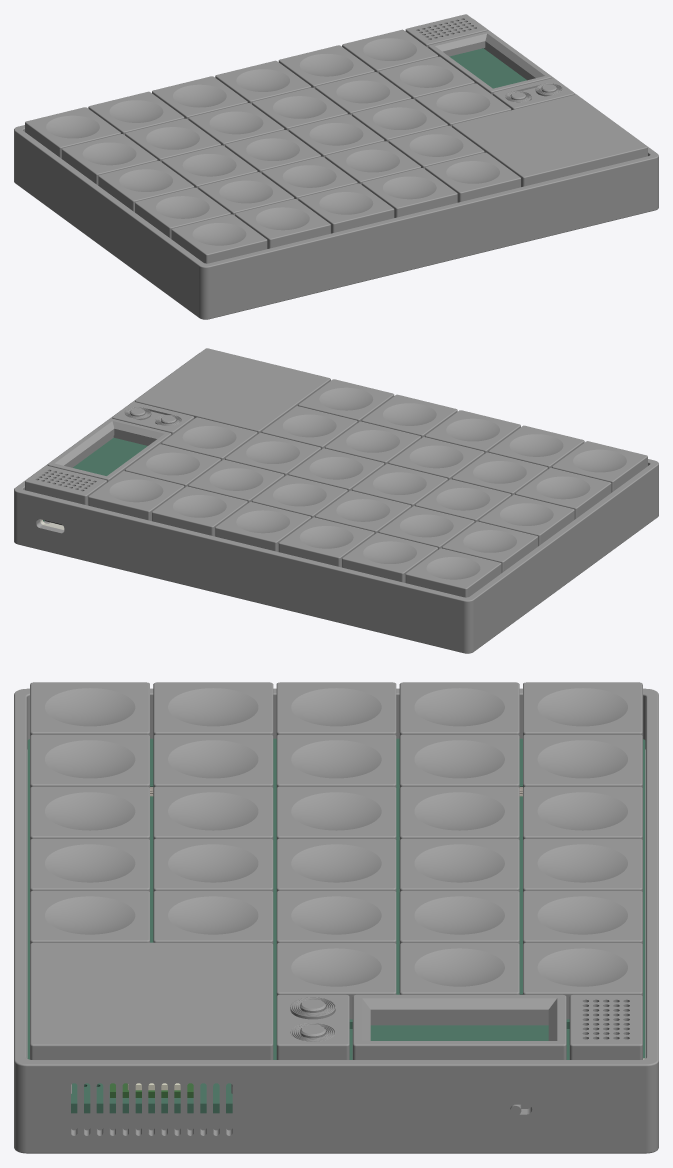
Rendered from OrthusSimple.gltf.
3 views of the same model, one above another, from view 1: azimuth 30°, elevation 25°; view 2: azimuth 150°, elevation 25°; view 3: azimuth 270°, elevation 25° (orthographic). The views are drawn at different scales.
Parts seen in each view (by area): view 1: COMPOUND, OrthusTrackpad1 v29, OrthusKeycap v024, OrthusKeycap v028, OrthusKeycap v031, OrthusKeycap v015, OrthusKeycap v014, COMPOUND002, OrthusKeycap v025, OrthusKeycap v6, OrthusKeycap v009, OrthusKeycap v030 (+22 smaller); view 2: COMPOUND, OrthusTrackpad1 v29, OrthusKeycap v6, OrthusKeycap v033, OrthusKeycap v032, OrthusKeycap v012, OrthusKeycap v007, OrthusKeycap v026, COMPOUND002, OrthusKeycap v009, OrthusKeycap v025, OrthusKeycap v030 (+22 smaller); view 3: COMPOUND, OrthusTrackpad1 v29, COMPOUND002, _autosave-test_PCB, OrthusKeycap v029, OrthusKeycap v007, OrthusKeycap v010, OrthusKeycap v019, OrthusKeycap v008, OrthusKeycap v009, OrthusKeycap v017, OrthusKeycap v022 (+24 smaller).
Boxes of the visible parts, x1,y1,x2,y2 form: COMPOUND: (14, 19, 658, 319); OrthusTrackpad1 v29: (452, 94, 647, 186); OrthusKeycap v024: (171, 214, 267, 263); OrthusKeycap v028: (298, 183, 394, 233); OrthusKeycap v031: (425, 152, 520, 202); OrthusKeycap v015: (361, 168, 457, 217); OrthusKeycap v014: (235, 199, 330, 248); COMPOUND002: (428, 31, 551, 94); OrthusKeycap v025: (61, 134, 157, 185); OrthusKeycap v6: (25, 107, 120, 158); OrthusKeycap v009: (135, 187, 230, 238); OrthusKeycap v030: (98, 160, 194, 212); COMPOUND: (14, 353, 658, 653); OrthusTrackpad1 v29: (135, 348, 330, 433); OrthusKeycap v6: (405, 548, 501, 597); OrthusKeycap v033: (278, 517, 374, 567); OrthusKeycap v032: (152, 486, 247, 536); OrthusKeycap v012: (215, 502, 311, 551); OrthusKeycap v007: (88, 471, 184, 520); OrthusKeycap v026: (342, 533, 437, 582); COMPOUND002: (47, 418, 171, 482); OrthusKeycap v009: (515, 468, 611, 519); OrthusKeycap v025: (442, 521, 537, 572); OrthusKeycap v030: (478, 494, 574, 546); COMPOUND: (14, 688, 658, 1153); OrthusTrackpad1 v29: (30, 942, 273, 1059); COMPOUND002: (352, 994, 566, 1059); _autosave-test_PCB: (27, 738, 645, 1113); OrthusKeycap v029: (276, 942, 396, 1019); OrthusKeycap v007: (523, 942, 642, 1019); OrthusKeycap v010: (276, 734, 396, 787); OrthusKeycap v019: (276, 786, 396, 839); OrthusKeycap v008: (399, 838, 519, 891); OrthusKeycap v009: (153, 682, 273, 735); OrthusKeycap v017: (153, 734, 273, 787); OrthusKeycap v022: (399, 734, 519, 787).
Bounding box in the file's own units: 0.1383 × 0.0179 × 0.0997.
